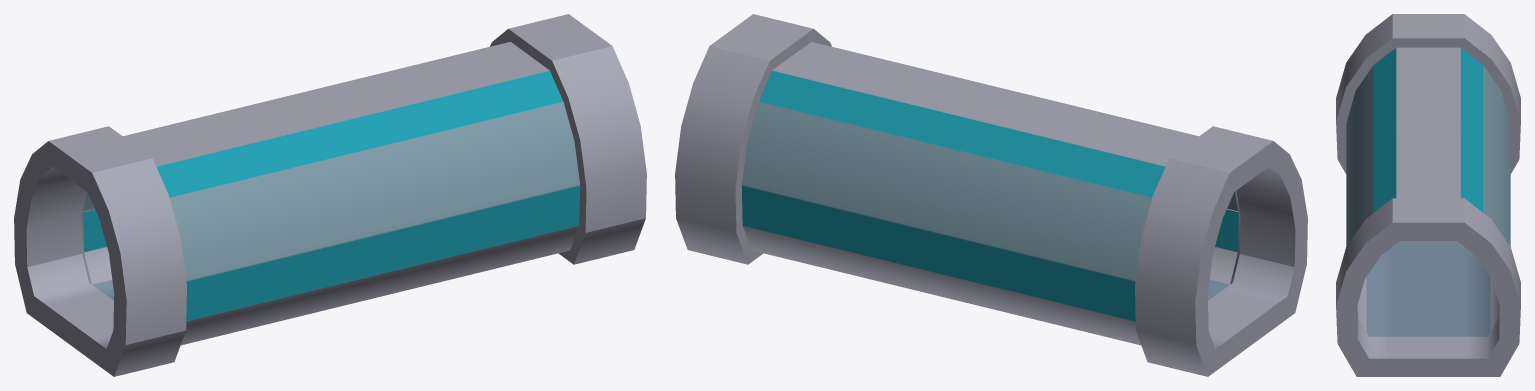
3 renders of one model, left to right at view 1: azimuth 30°, elevation 25°; view 2: azimuth 150°, elevation 25°; view 3: azimuth 270°, elevation 25°, orthographic. The views are drawn at different scales.
Parts seen in each view (by area): view 1: tunnel_glass; view 2: tunnel_glass; view 3: tunnel_glass.
Boxes of the visible parts, left/top/right/bottom form: tunnel_glass: left=14, top=14, right=646, bottom=376; tunnel_glass: left=675, top=14, right=1307, bottom=376; tunnel_glass: left=1336, top=14, right=1520, bottom=376.
Bounding box in the file's own units: 3.01 × 1.04 × 1.13.
1 material, 1 textured.
